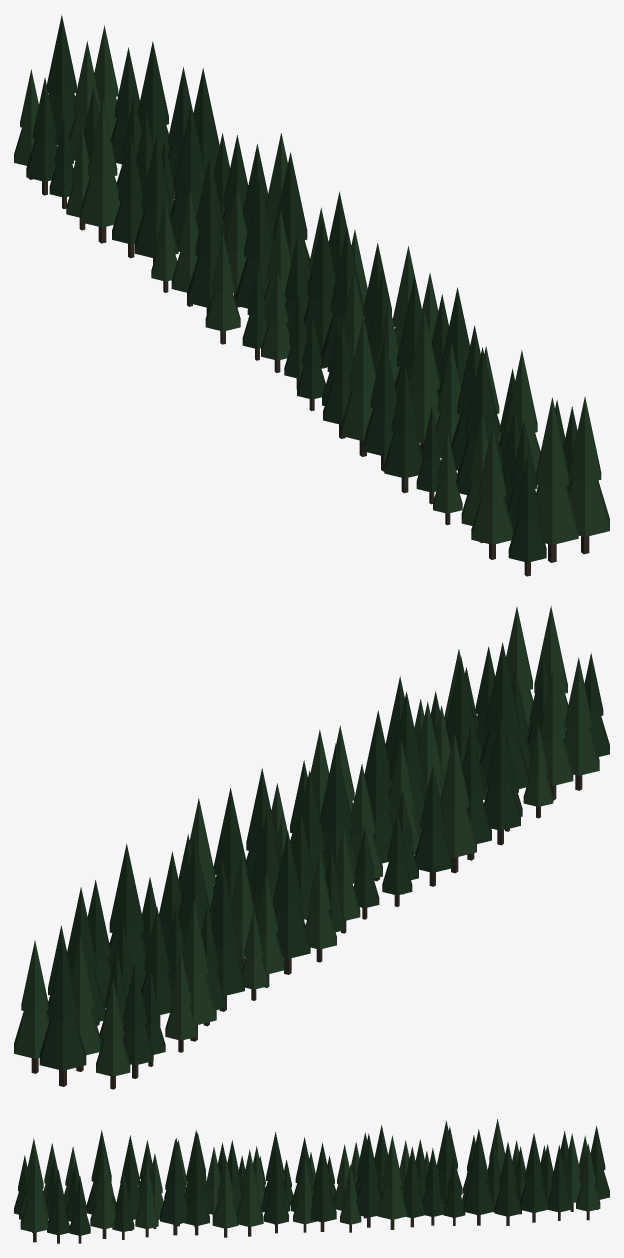
File: forest_edge_14.glb
3 renders of one model, top to bottom at view 1: azimuth 30°, elevation 25°; view 2: azimuth 150°, elevation 25°; view 3: azimuth 270°, elevation 25°, orthographic. The views are drawn at different scales.
Parts seen in each view (by area): view 1: chunk_0_0; view 2: chunk_0_0; view 3: chunk_0_0.
Part boxes in pixels (x1=…): chunk_0_0: x1=14, y1=14, x2=609, y2=576; chunk_0_0: x1=14, y1=606, x2=609, y2=1089; chunk_0_0: x1=14, y1=1119, x2=609, y2=1243.
Size of the model in its own units: 23.32 by 32.48 by 153.
